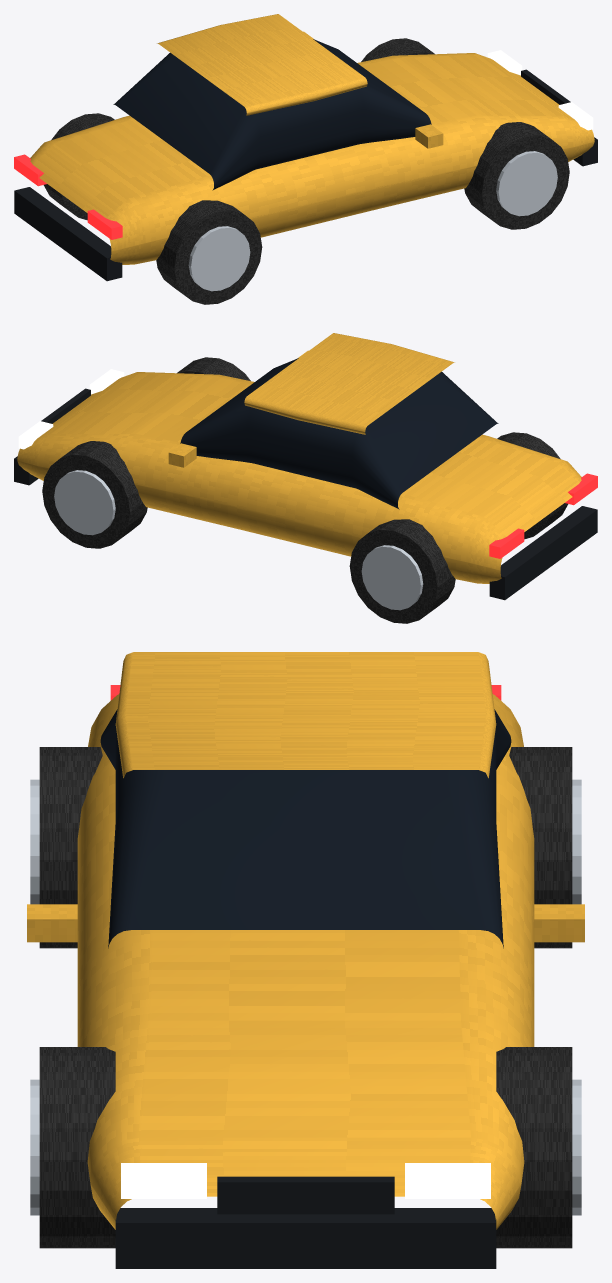
Rendered from carro.glb.
3 renders of one model, top to bottom at view 1: azimuth 30°, elevation 25°; view 2: azimuth 150°, elevation 25°; view 3: azimuth 270°, elevation 25°, orthographic. The views are drawn at different scales.
Visible parts, largest first — view 1: carroceria, vidro, pneus, aros, plasticos, lanternas, farois; view 2: carroceria, vidro, pneus, aros, plasticos, lanternas, farois; view 3: carroceria, vidro, pneus, plasticos, farois, aros.
Part boxes in pixels (bbox=[...]): carroceria: bbox=[30, 14, 594, 264]; vidro: bbox=[113, 39, 431, 190]; pneus: bbox=[43, 38, 569, 304]; aros: bbox=[188, 151, 557, 291]; plasticos: bbox=[14, 69, 597, 281]; lanternas: bbox=[14, 154, 122, 239]; farois: bbox=[487, 50, 593, 130]; carroceria: bbox=[17, 333, 581, 583]; vidro: bbox=[180, 358, 498, 509]; pneus: bbox=[42, 357, 568, 623]; aros: bbox=[54, 470, 423, 610]; plasticos: bbox=[14, 388, 597, 600]; lanternas: bbox=[489, 473, 597, 558]; farois: bbox=[18, 369, 124, 449]; carroceria: bbox=[27, 652, 584, 1229]; vidro: bbox=[100, 709, 511, 948]; pneus: bbox=[39, 747, 572, 1248]; plasticos: bbox=[115, 1176, 496, 1268]; farois: bbox=[121, 1163, 490, 1198]; aros: bbox=[30, 779, 581, 1215].
Size of the model in its own units: 4.46 by 1.47 by 2.2.
7 materials, 2 textured.
